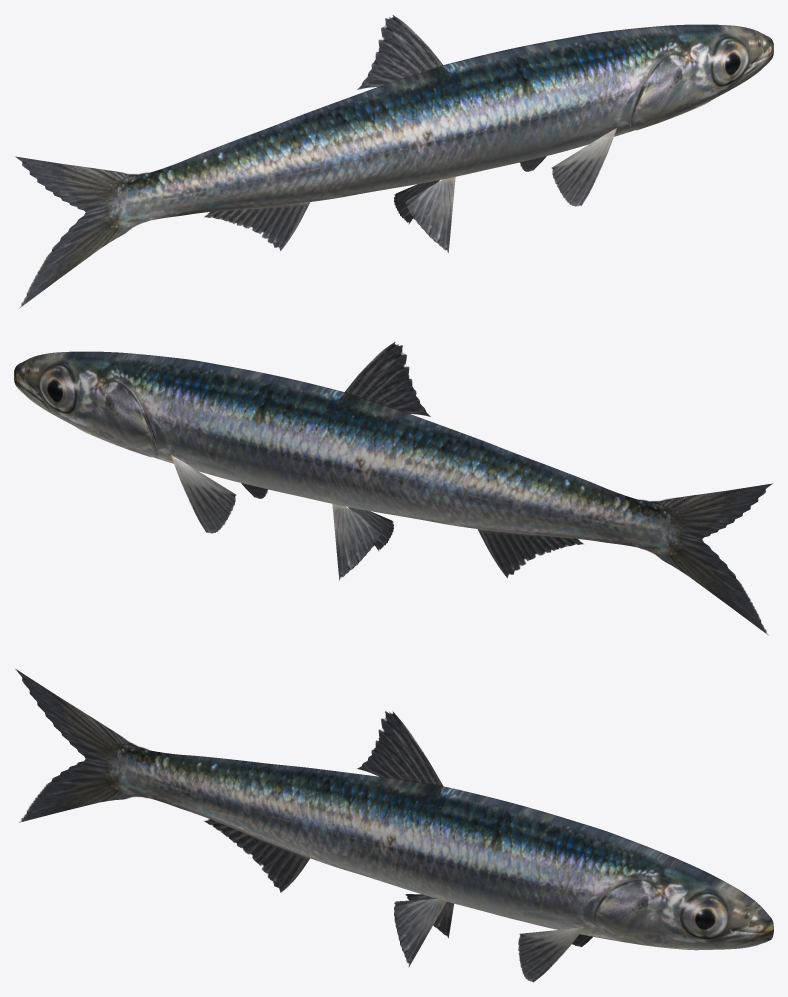
Rendered from katakuchi.glb.
3 views of the same model, one above another, from view 1: azimuth 30°, elevation 25°; view 2: azimuth 150°, elevation 25°; view 3: azimuth 330°, elevation 25° (orthographic).
Visible parts, largest first — view 1: katakuchi; view 2: katakuchi; view 3: katakuchi.
Part boxes in pixels (bbox=[...]): katakuchi: bbox=[15, 15, 773, 308]; katakuchi: bbox=[14, 342, 772, 635]; katakuchi: bbox=[15, 669, 773, 982].
Bounding box in the file's own units: 0.1299 × 0.0382 × 0.0143.
1 material, 1 textured.
